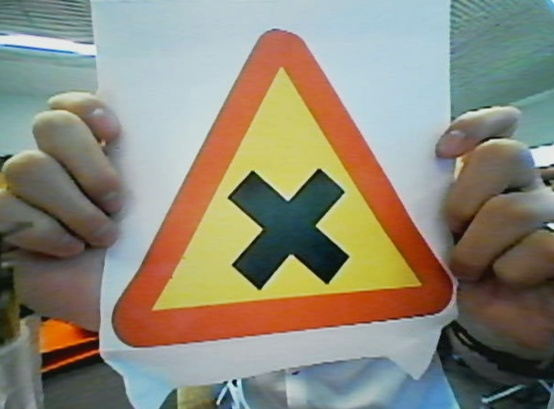junction: (116, 19, 492, 359)
